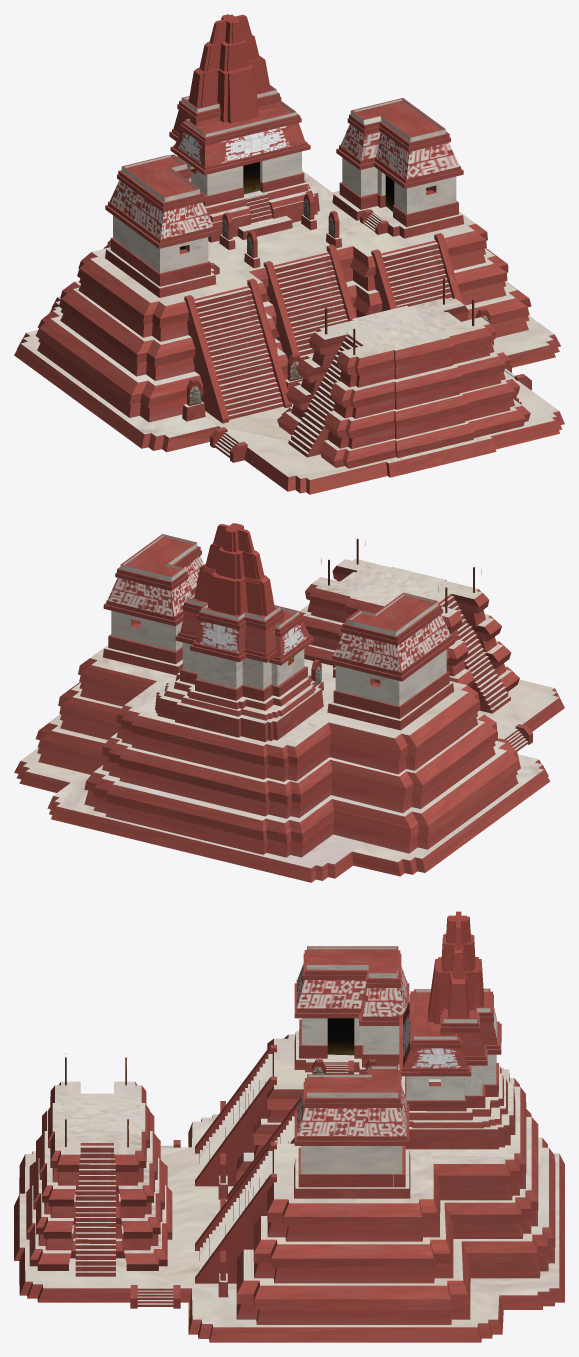
Rendered from observatorio_2.dae.
3 renders of one model, top to bottom at view 1: azimuth 30°, elevation 25°; view 2: azimuth 150°, elevation 25°; view 3: azimuth 270°, elevation 25°, orthographic. The views are drawn at different scales.
Visible parts, largest first — view 1: obser_2; view 2: obser_2; view 3: obser_2.
Boxes of the visible parts, x1,y1,x2,y2 form: obser_2: (14,14,564,494); obser_2: (14,523,564,882); obser_2: (14,911,564,1342).
Size of the model in its own units: 35.7 by 38.13 by 23.96.
